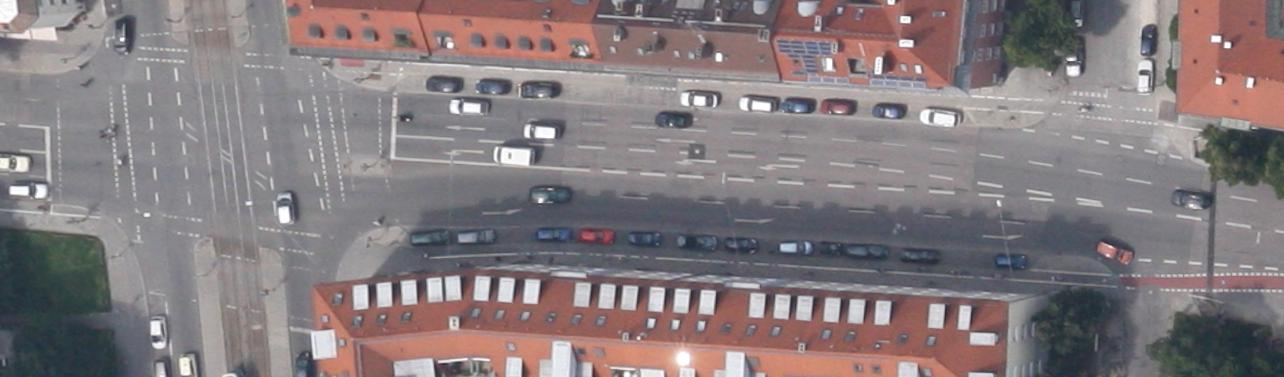car: (1095, 238, 1134, 266), (1170, 189, 1212, 210), (919, 108, 962, 127), (529, 186, 571, 204), (676, 234, 718, 252), (425, 74, 463, 93), (522, 122, 562, 140), (848, 244, 888, 262), (520, 80, 558, 98), (654, 110, 692, 128), (872, 100, 906, 120), (114, 19, 132, 56), (902, 246, 939, 264), (449, 98, 490, 114), (410, 230, 451, 246), (8, 184, 48, 200), (276, 191, 294, 226), (1137, 59, 1155, 94), (820, 98, 856, 115), (739, 96, 777, 112), (1066, 39, 1082, 77), (628, 230, 662, 247), (726, 236, 758, 254), (779, 239, 814, 255), (1140, 24, 1158, 55), (680, 92, 717, 107), (457, 230, 495, 244), (150, 316, 166, 349), (476, 78, 508, 94), (782, 97, 814, 113), (537, 227, 571, 242), (580, 229, 614, 244), (996, 253, 1026, 270), (296, 352, 314, 376), (819, 241, 843, 256), (1071, 2, 1084, 28)
